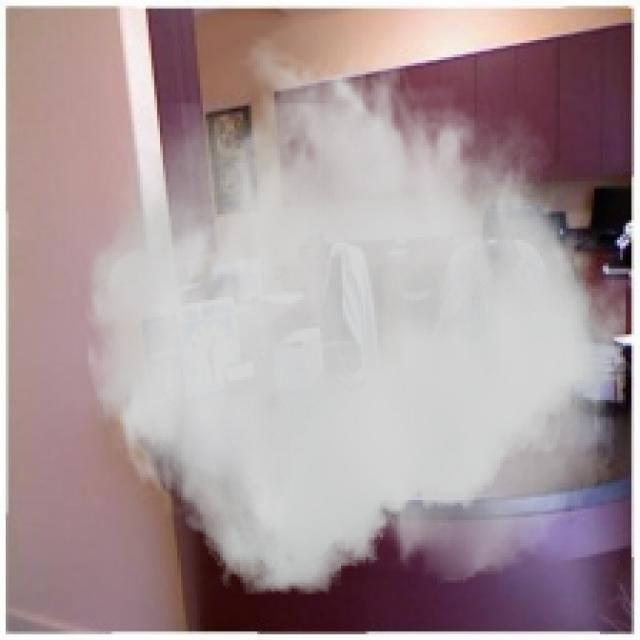Smoke: (80, 34, 626, 594)
